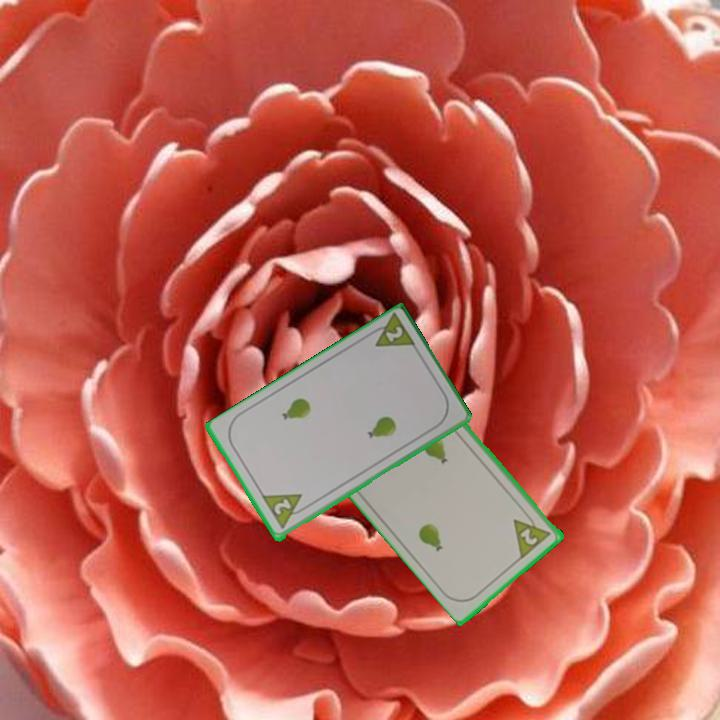2p: (510, 507, 554, 561), (364, 311, 419, 351), (259, 490, 311, 532)
